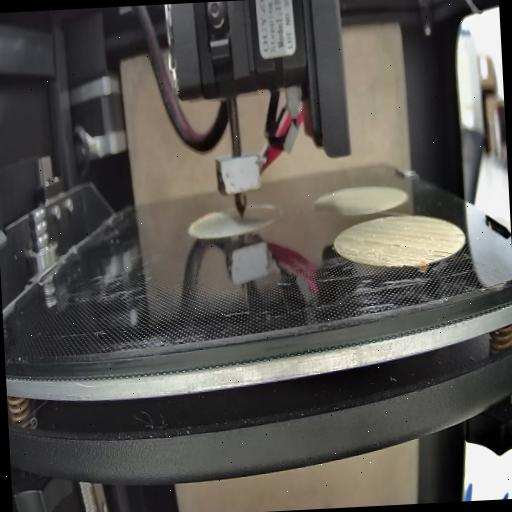under_extrusion: (360, 234, 403, 250), (422, 245, 454, 265), (452, 230, 465, 245), (402, 258, 421, 268), (343, 252, 360, 260)
